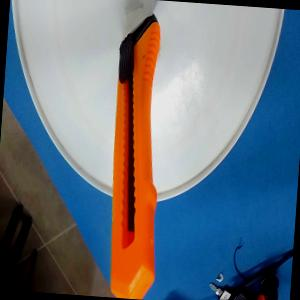estilete: (102, 11, 174, 300)
